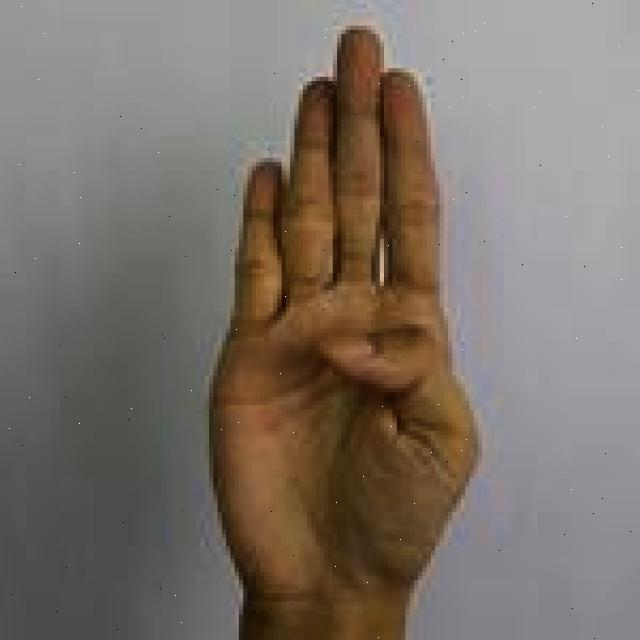B: (208, 23, 487, 640)
